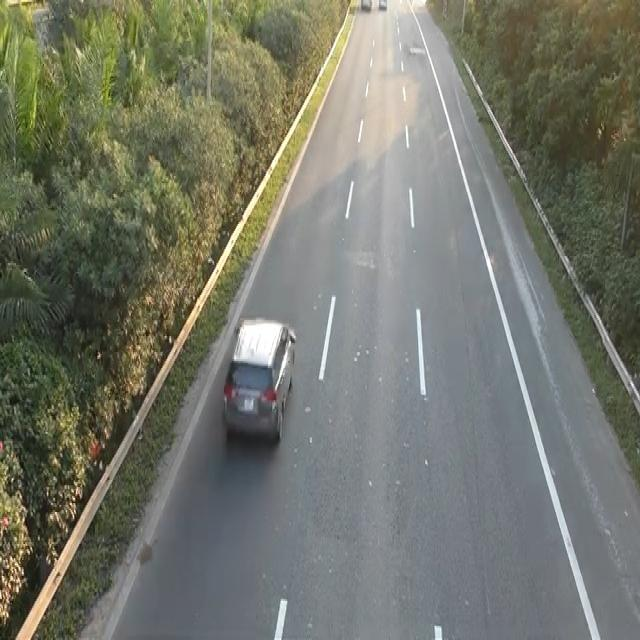car: (220, 311, 297, 445)
